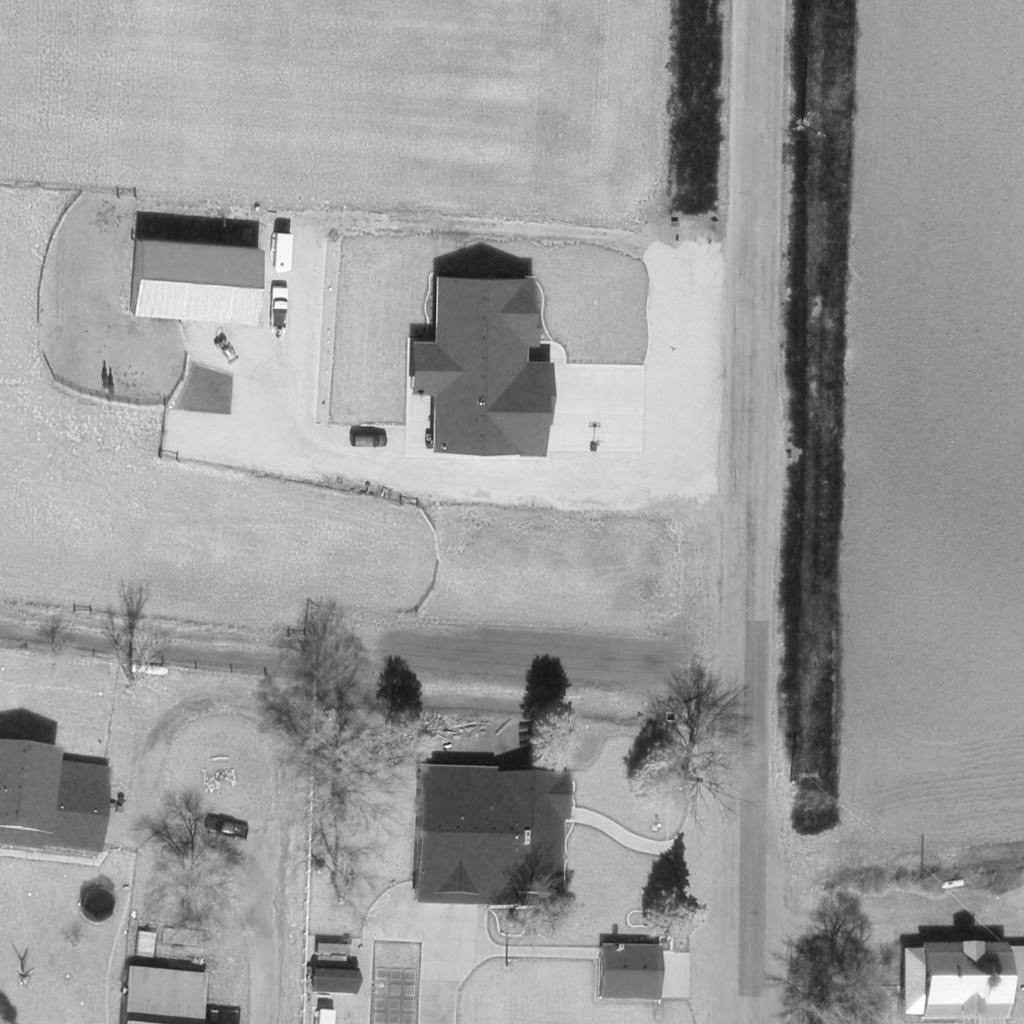vehicle: (201, 816, 249, 840), (272, 233, 294, 277), (213, 334, 241, 368), (272, 287, 288, 335), (351, 433, 387, 449)
